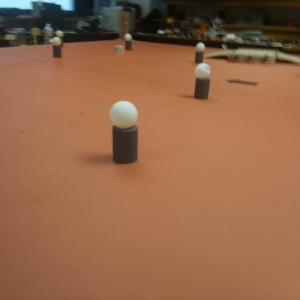obstacle: (112, 101, 139, 161), (196, 64, 210, 99), (194, 43, 205, 65), (51, 38, 62, 58), (124, 34, 131, 50)
side: (228, 52, 274, 64)
slope: (277, 50, 300, 68)
